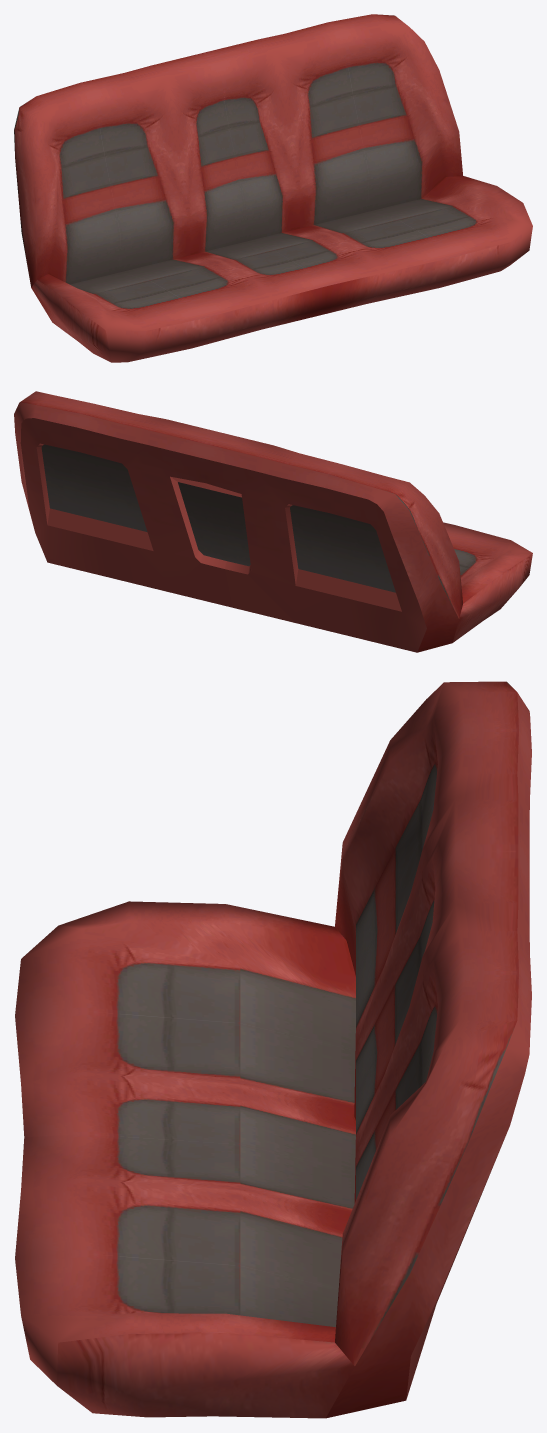
The model's file is Asientos.glb.
3 renders of one model, top to bottom at view 1: azimuth 30°, elevation 25°; view 2: azimuth 150°, elevation 25°; view 3: azimuth 270°, elevation 25°, orthographic. The views are drawn at different scales.
Visible parts, largest first — view 1: Seat_Steering.2; view 2: Seat_Steering.2; view 3: Seat_Steering.2.
Boxes of the visible parts, x1=… form: Seat_Steering.2: x1=14, y1=14, x2=532, y2=362; Seat_Steering.2: x1=14, y1=391, x2=532, y2=652; Seat_Steering.2: x1=15, y1=681, x2=531, y2=1418.
Size of the model in its own units: 0.0114 by 0.00457 by 0.00576.
1 material, 1 textured.
